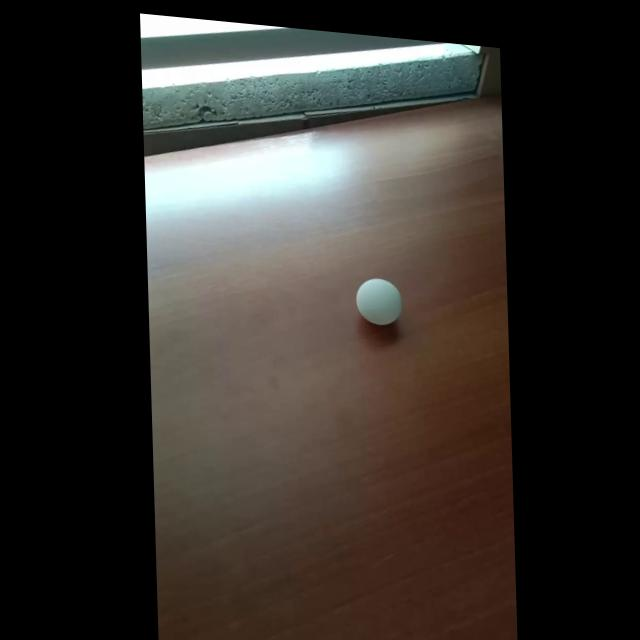white ball: (355, 276, 403, 328)
